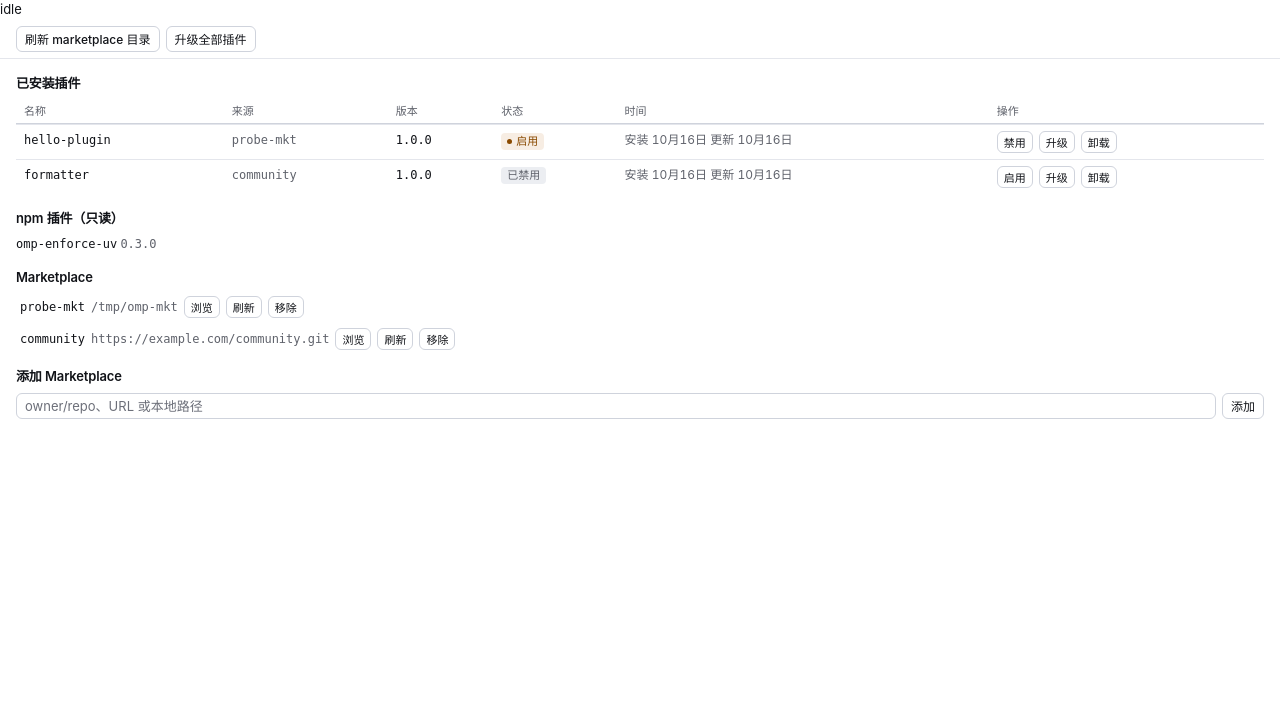
Scenario: PluginsPanel（有状态 mock） › 卸载需确认：取消无事，确认删除行
The width and height of the screenshot is (1280, 720).
Click the button with aria-label "卸载 hello-plugin@probe-mkt" at x=1099, y=142, box [1081,131,1117,153]
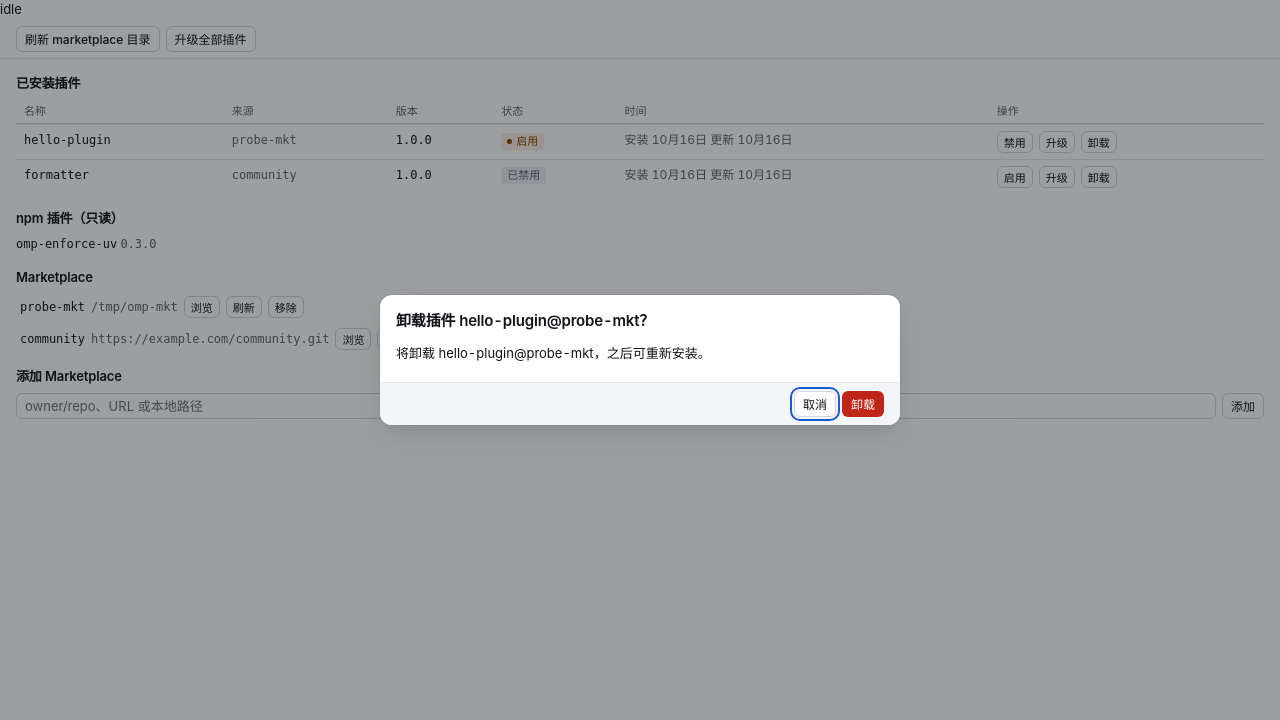
Click the button "取消" at x=815, y=404, box [794,391,836,417]
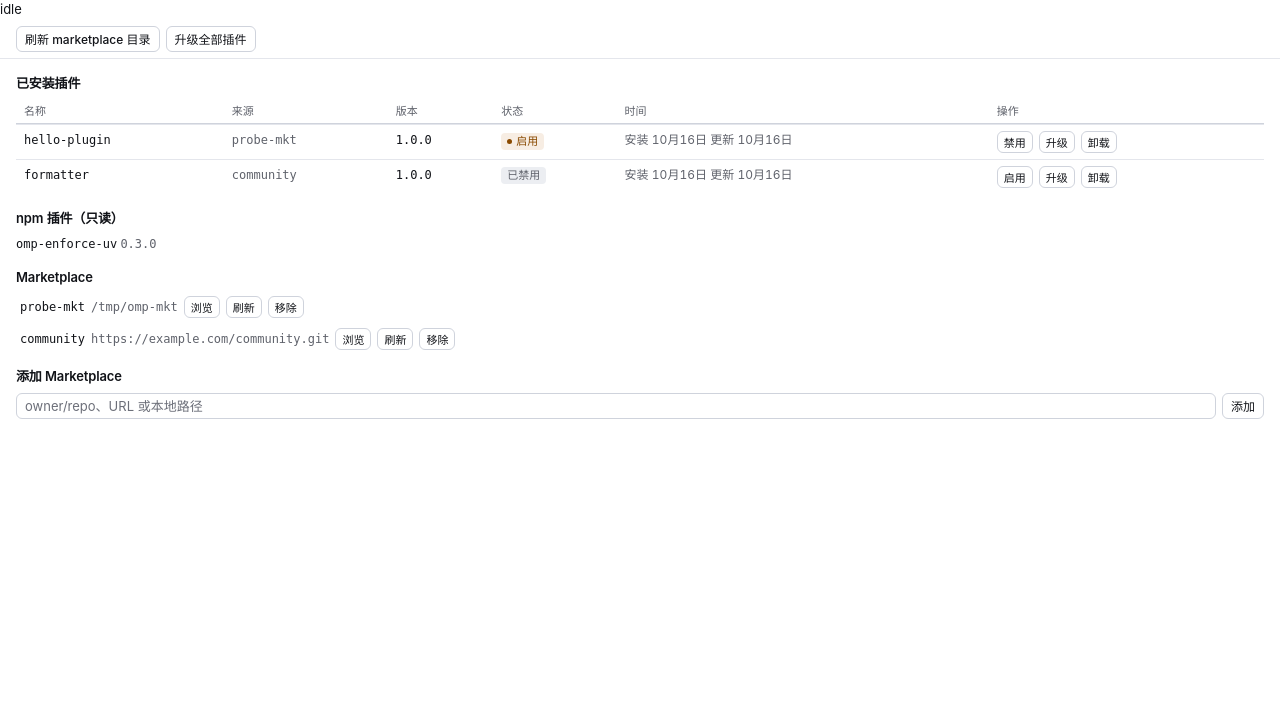
Result: the dialog is gone
Click the button with aria-label "卸载 hello-plugin@probe-mkt" at x=1099, y=142, box [1081,131,1117,153]
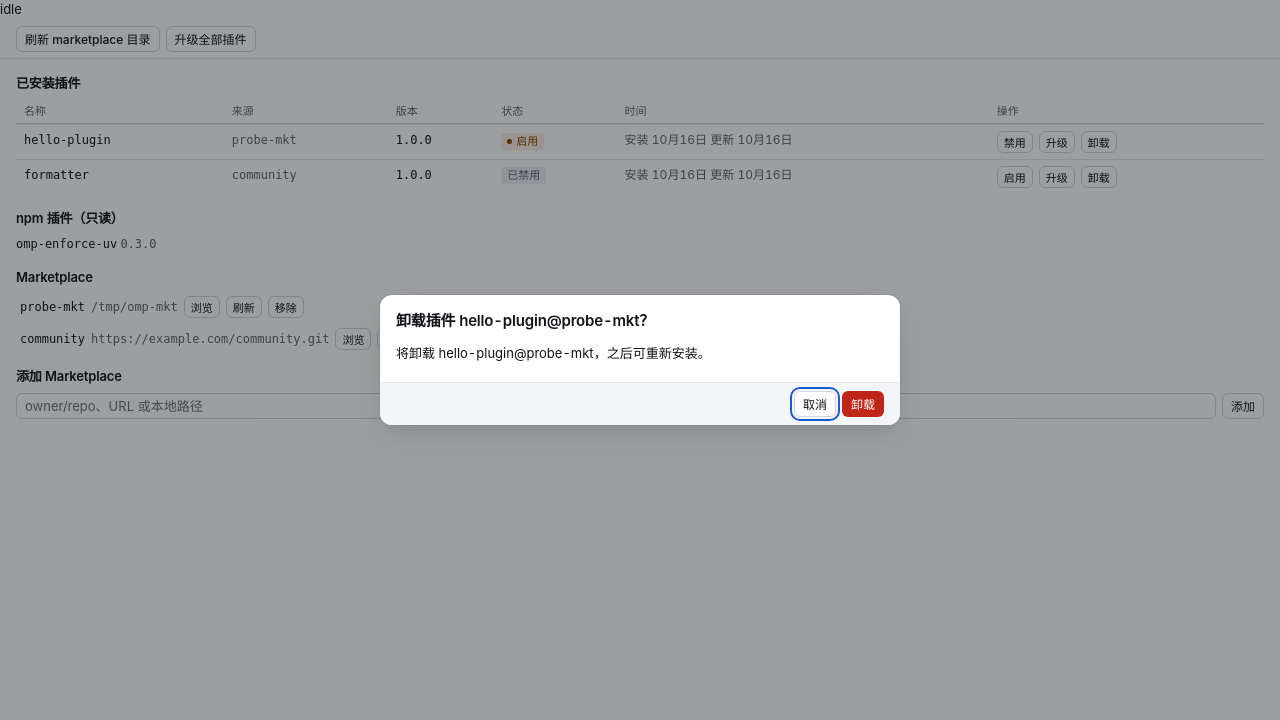
Click the button "卸载" at x=863, y=404, box [842,391,884,417]
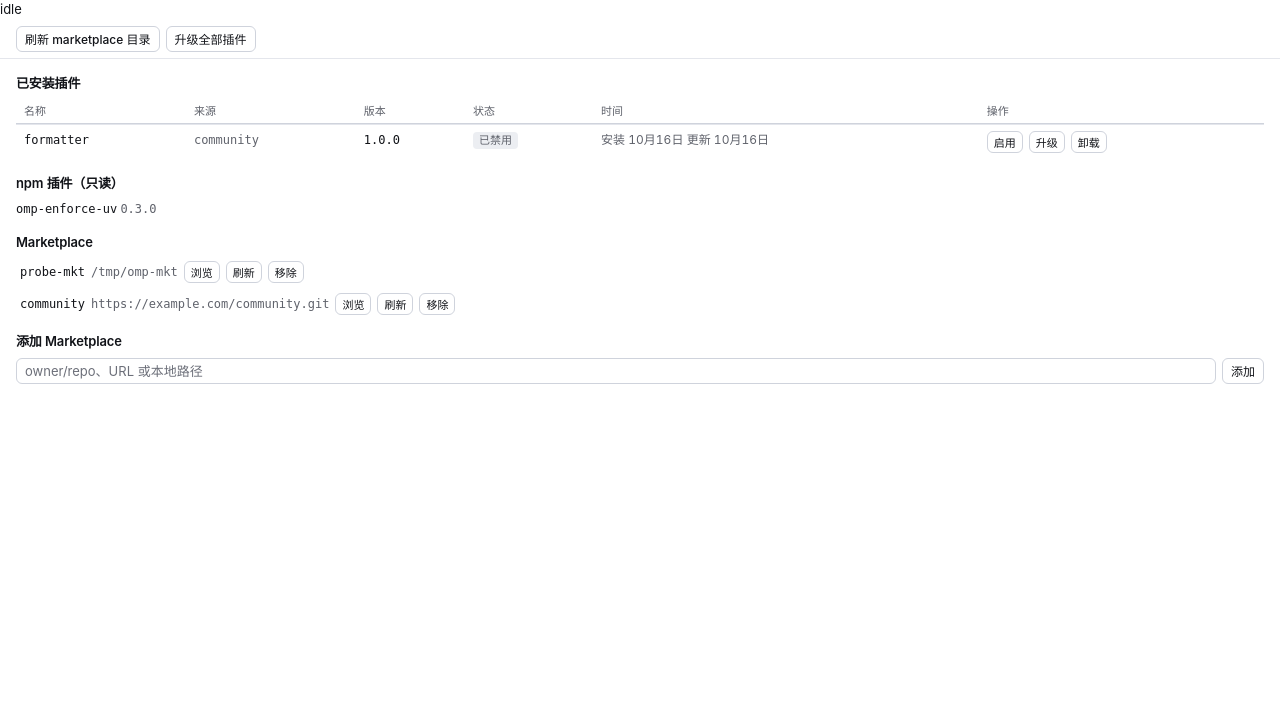
Result: the text "卸载 hello-plugin@probe-mkt" is gone
